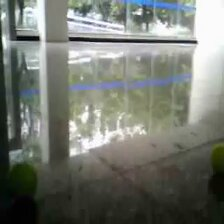tennis: (9, 161, 38, 202), (208, 143, 224, 179)
